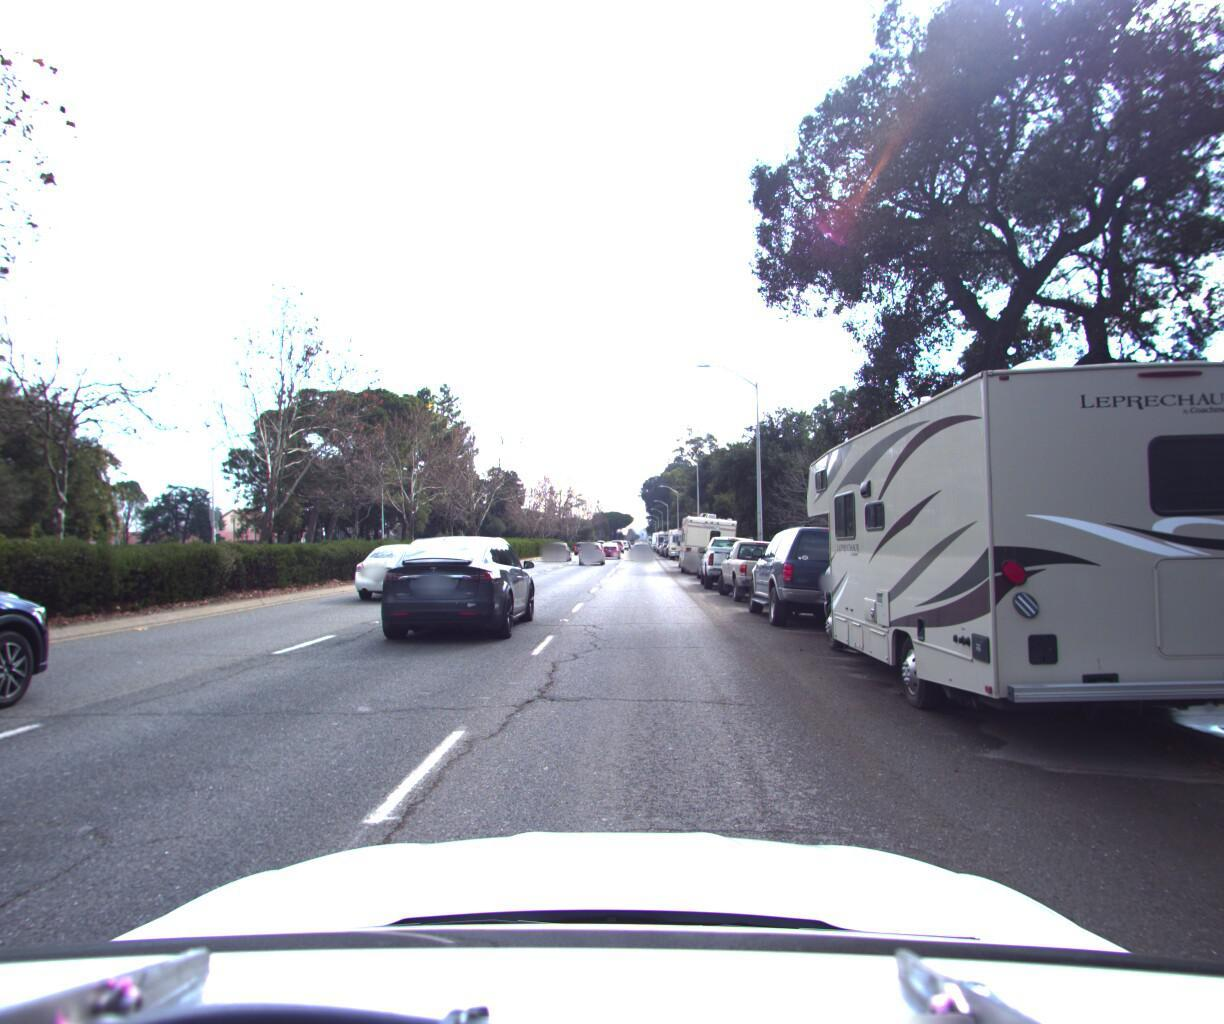car: (0, 500, 89, 839), (371, 527, 545, 648), (736, 513, 897, 631), (710, 528, 810, 602), (345, 534, 450, 602), (694, 525, 769, 589), (571, 534, 607, 561), (541, 535, 575, 559), (626, 533, 652, 555), (598, 535, 624, 555)
other_vehicle: (785, 295, 1224, 790), (674, 504, 739, 569), (664, 520, 697, 554)
